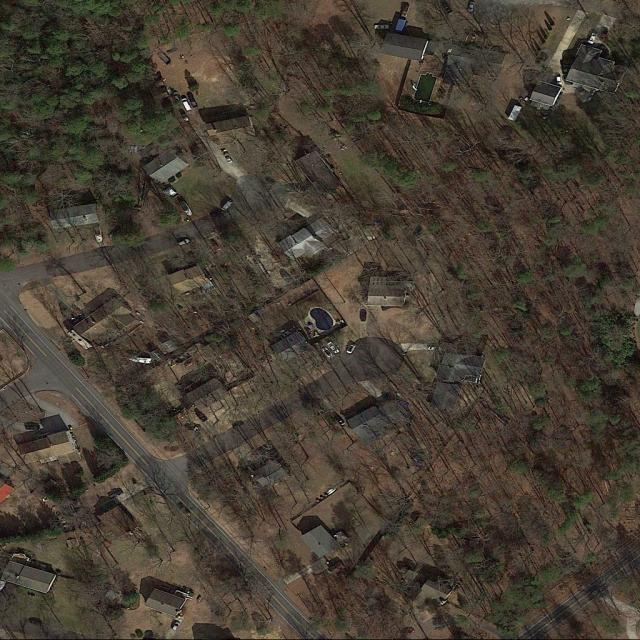ship: (178, 199, 194, 218), (128, 354, 152, 364), (92, 225, 104, 244)
small-vehicle: (176, 501, 193, 518), (186, 91, 199, 109), (326, 341, 341, 355), (195, 409, 209, 424), (332, 412, 346, 427), (108, 488, 123, 501), (221, 199, 234, 212), (231, 419, 245, 431), (401, 2, 411, 18), (186, 423, 202, 433), (587, 31, 599, 44), (222, 151, 234, 164), (181, 98, 192, 112), (321, 346, 333, 358), (210, 240, 221, 251), (403, 626, 414, 637), (346, 342, 356, 354), (178, 238, 191, 247), (25, 424, 40, 431), (468, 1, 476, 14), (171, 621, 181, 631), (181, 111, 190, 122), (600, 30, 608, 42), (360, 309, 367, 322), (374, 24, 388, 30), (172, 91, 180, 101), (556, 75, 562, 85), (428, 346, 440, 351)
